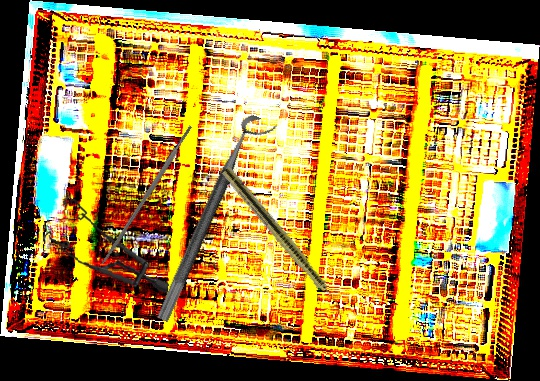Fixation Ring: (154, 111, 278, 331)
Handpiece: (219, 166, 349, 316)
Scalpel Handle: (99, 124, 195, 267)
Speculum: (39, 192, 176, 295)
